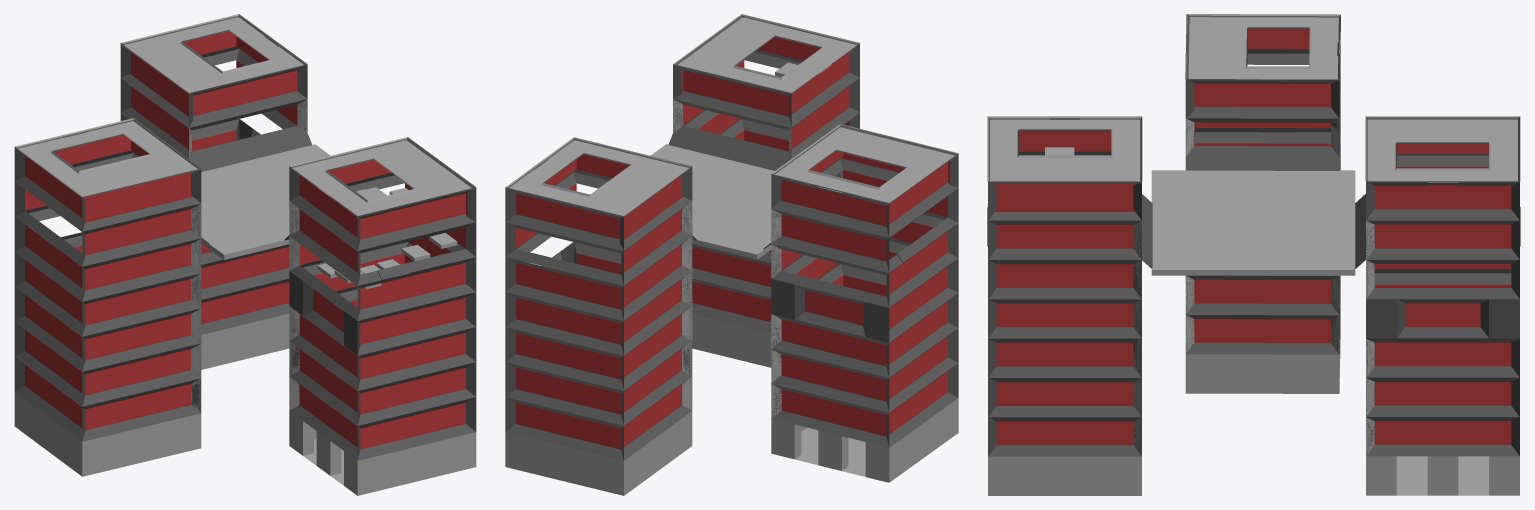
File: BuildingTestForWes.fbx
3 views of the same model, side by side, from view 1: azimuth 30°, elevation 25°; view 2: azimuth 150°, elevation 25°; view 3: azimuth 270°, elevation 25° (orthographic). The views are drawn at different scales.
Visible parts, largest first — view 1: pCube39, pCube1, pCube38, pCube37; view 2: pCube39, pCube38, pCube1, pCube37; view 3: pCube38, pCube1, pCube39, pCube37.
Part boxes in pixels (left/top/right/bottom): pCube39: left=14, top=118, right=209, bottom=476; pCube1: left=284, top=137, right=476, bottom=495; pCube38: left=120, top=14, right=312, bottom=369; pCube37: left=201, top=144, right=330, bottom=259; pCube39: left=763, top=124, right=958, bottom=482; pCube38: left=505, top=137, right=697, bottom=495; pCube1: left=668, top=14, right=860, bottom=367; pCube37: left=650, top=144, right=774, bottom=259; pCube38: left=1355, top=116, right=1520, bottom=495; pCube1: left=987, top=116, right=1152, bottom=495; pCube39: left=1185, top=14, right=1340, bottom=393; pCube37: left=1151, top=170, right=1355, bottom=275.
Bounding box in the file's own units: 1716 × 1490 × 2288.
